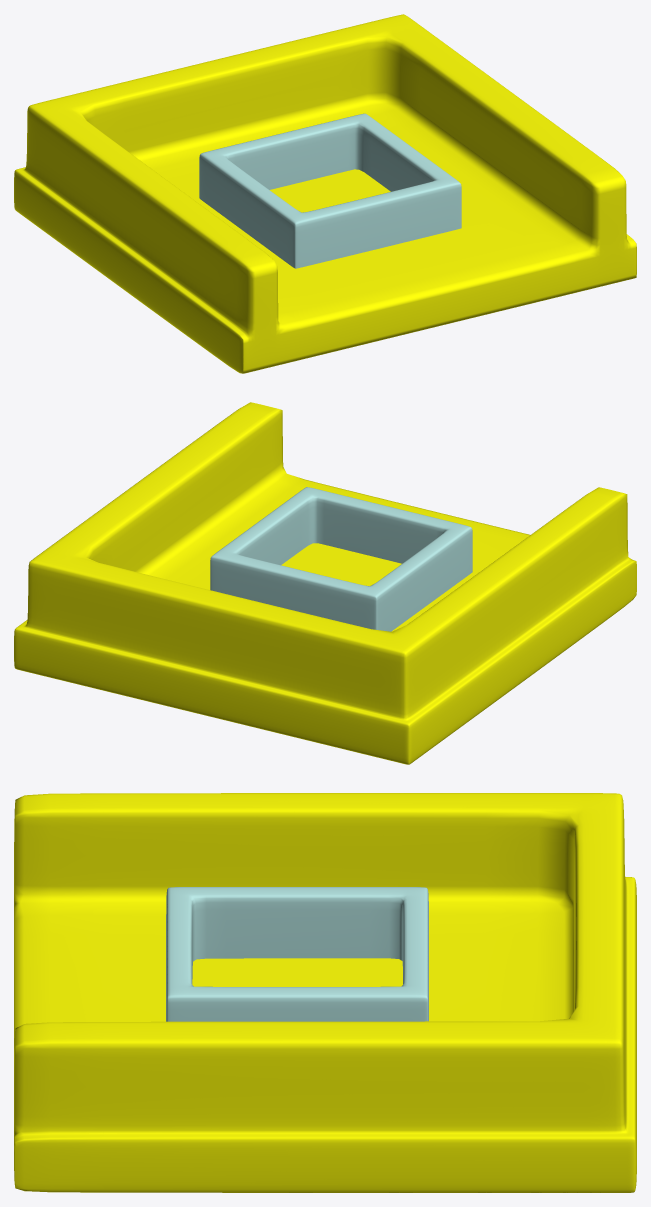
3 renders of one model, top to bottom at view 1: azimuth 30°, elevation 25°; view 2: azimuth 150°, elevation 25°; view 3: azimuth 270°, elevation 25°, orthographic. The views are drawn at different scales.
Visible parts, largest first — view 1: polySurface1274; view 2: polySurface1274; view 3: polySurface1274.
Boxes of the visible parts, x1,y1,x2,y2 form: polySurface1274: [14, 14, 636, 373]; polySurface1274: [14, 402, 636, 764]; polySurface1274: [14, 793, 636, 1192].
Bounding box in the file's own units: 0.9997 × 0.2597 × 0.9998.
